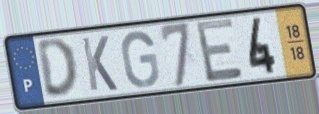4: (247, 15, 279, 76)
7: (157, 19, 194, 90)
D: (34, 35, 80, 101)
E: (193, 16, 246, 86)
G: (119, 29, 161, 90)
K: (79, 34, 120, 93)
